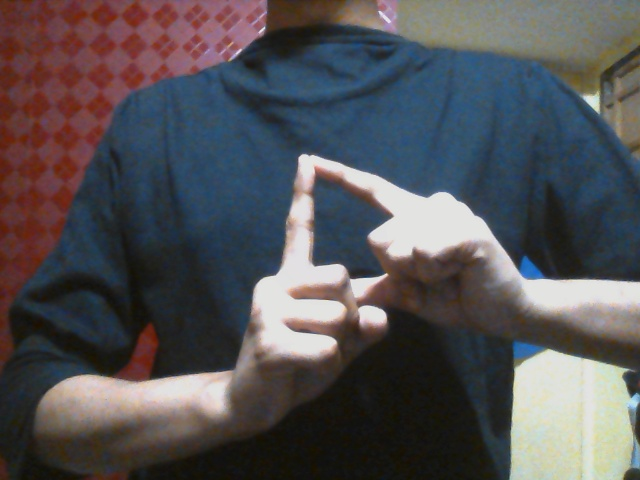D: (232, 152, 510, 440)
